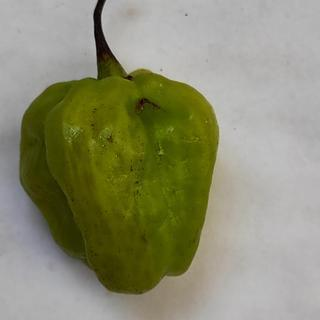Defect: (129, 92, 165, 118)
Fly-bites: (101, 130, 119, 150), (123, 161, 140, 176), (130, 173, 144, 188)
